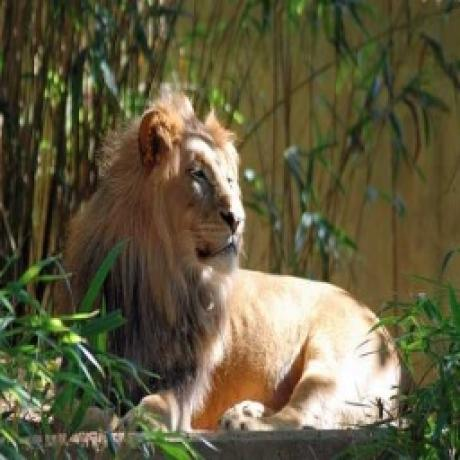Lion: (44, 85, 410, 436)
